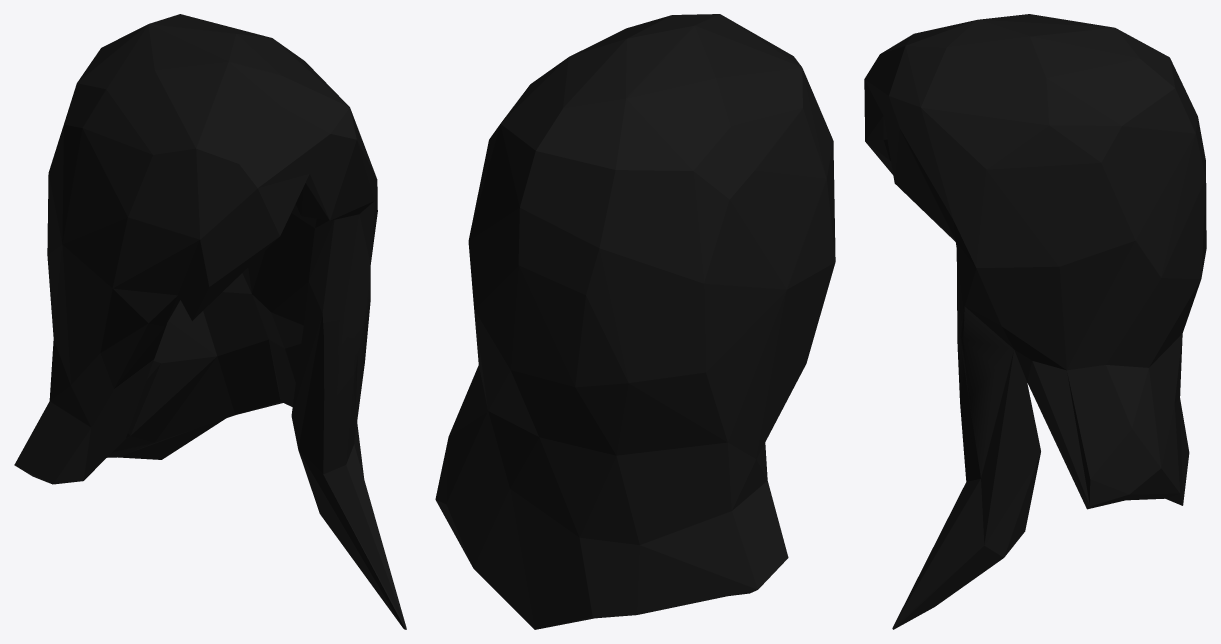
The model's file is Beachgoer_Hair_A.fbx.
3 views of the same model, side by side, from view 1: azimuth 30°, elevation 25°; view 2: azimuth 150°, elevation 25°; view 3: azimuth 270°, elevation 25° (orthographic). The views are drawn at different scales.
Visible parts, largest first — view 1: Beachgoer_F_Hair_A; view 2: Beachgoer_F_Hair_A; view 3: Beachgoer_F_Hair_A.
Boxes of the visible parts, x1=… form: Beachgoer_F_Hair_A: x1=14, y1=14, x2=406, y2=629; Beachgoer_F_Hair_A: x1=435, y1=14, x2=835, y2=629; Beachgoer_F_Hair_A: x1=864, y1=14, x2=1206, y2=629.
Size of the model in its own units: 24.79 by 44.24 by 25.07.
